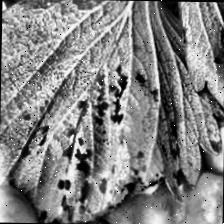Angular Leafspot: (10, 53, 223, 224)
